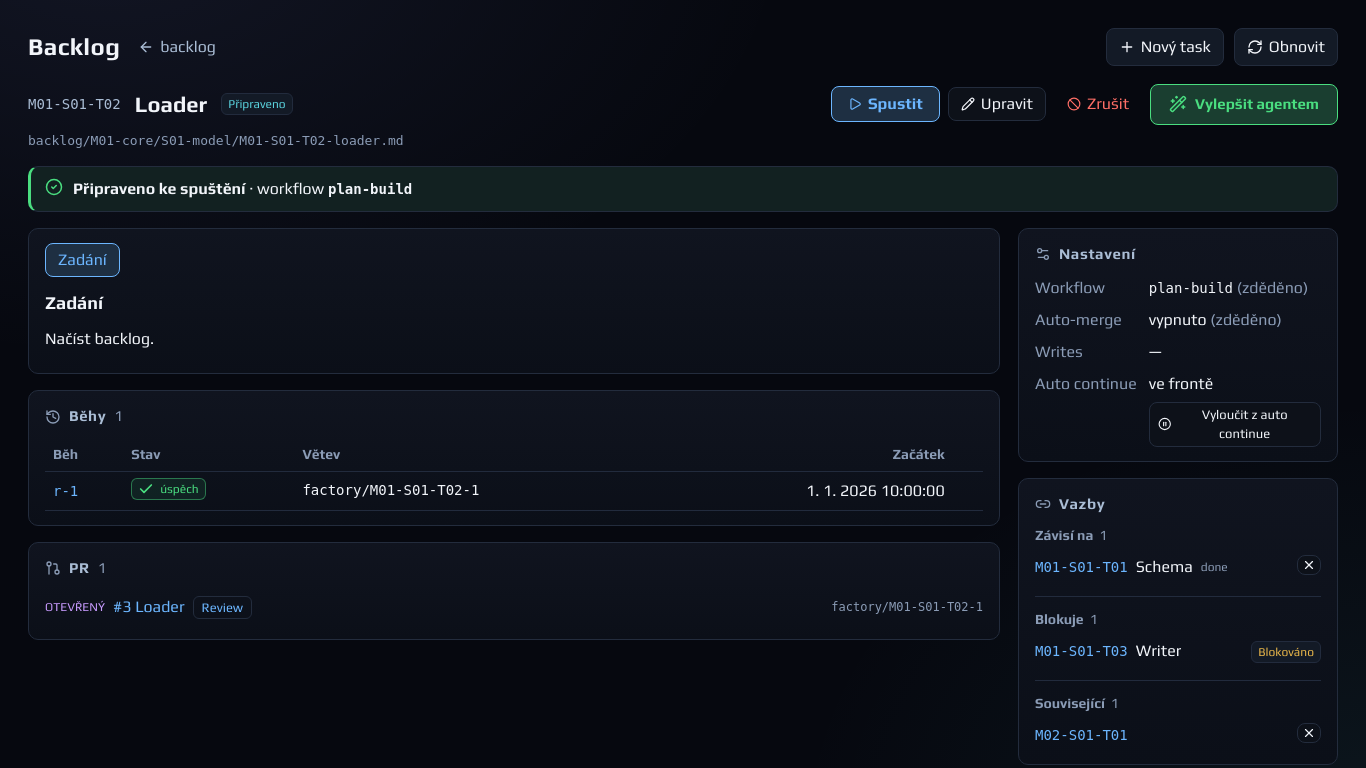
Test: BacklogView › saves generated advice from task detail, refreshes catalog, detail and the config banner
Click the button with test id "edit": (997, 104) [948, 87, 1046, 121]
(page scrolled)
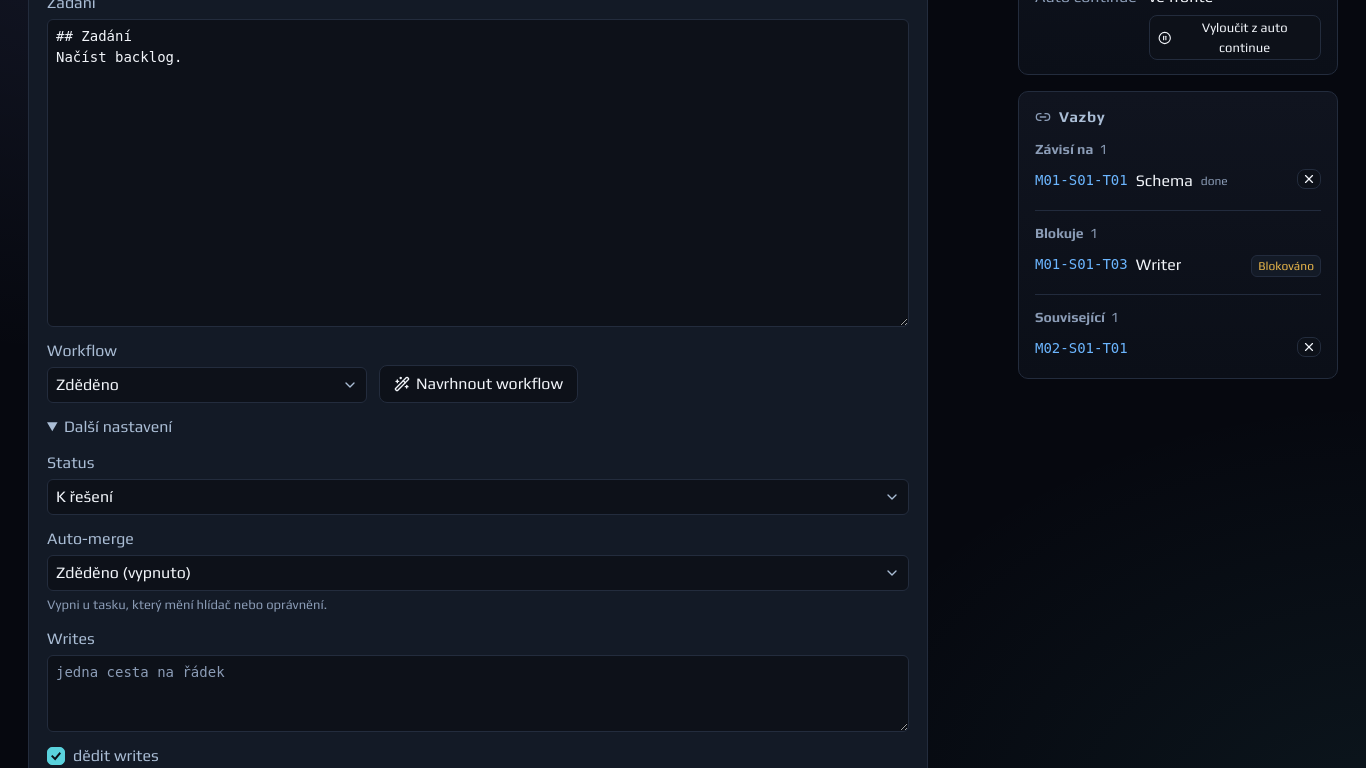
Click the button "Navrhnout workflow": (479, 384) [379, 365, 578, 403]
(page scrolled)
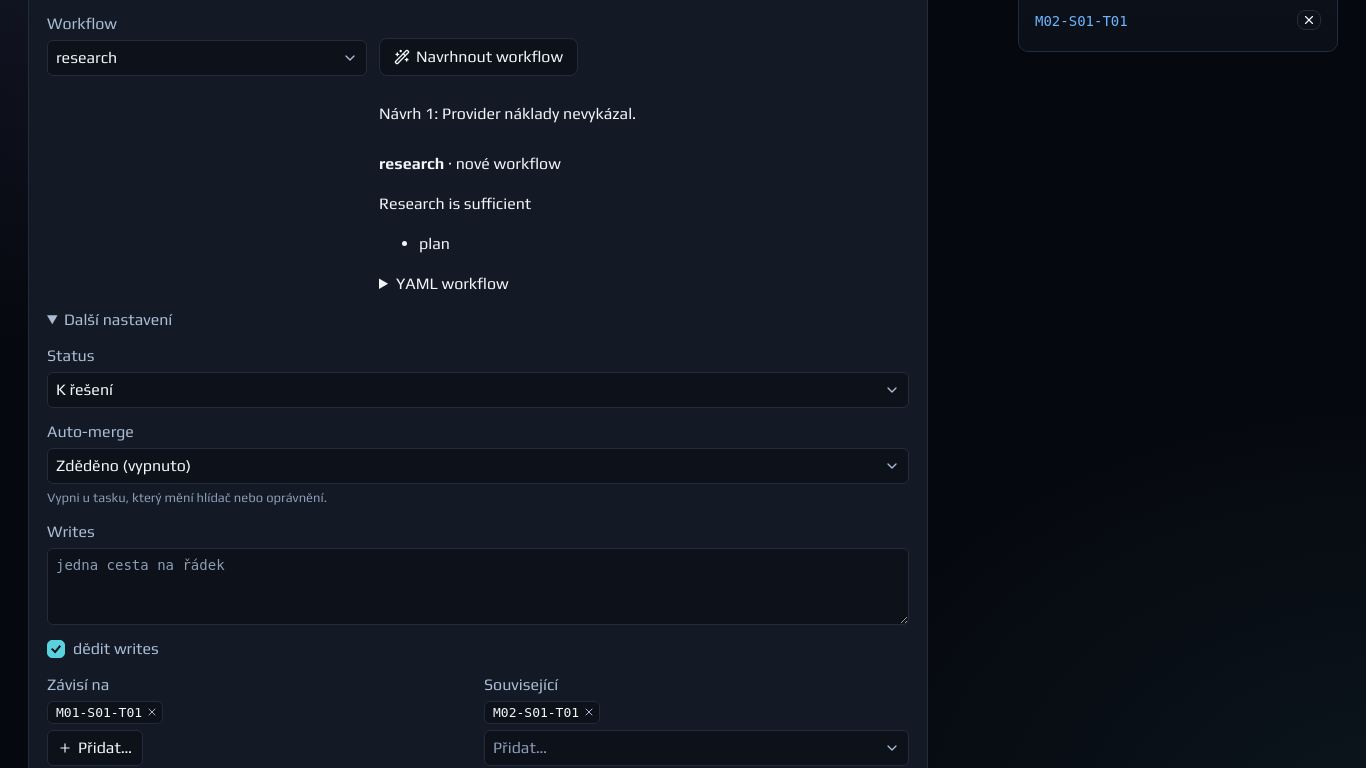
Submit the form
(page scrolled)
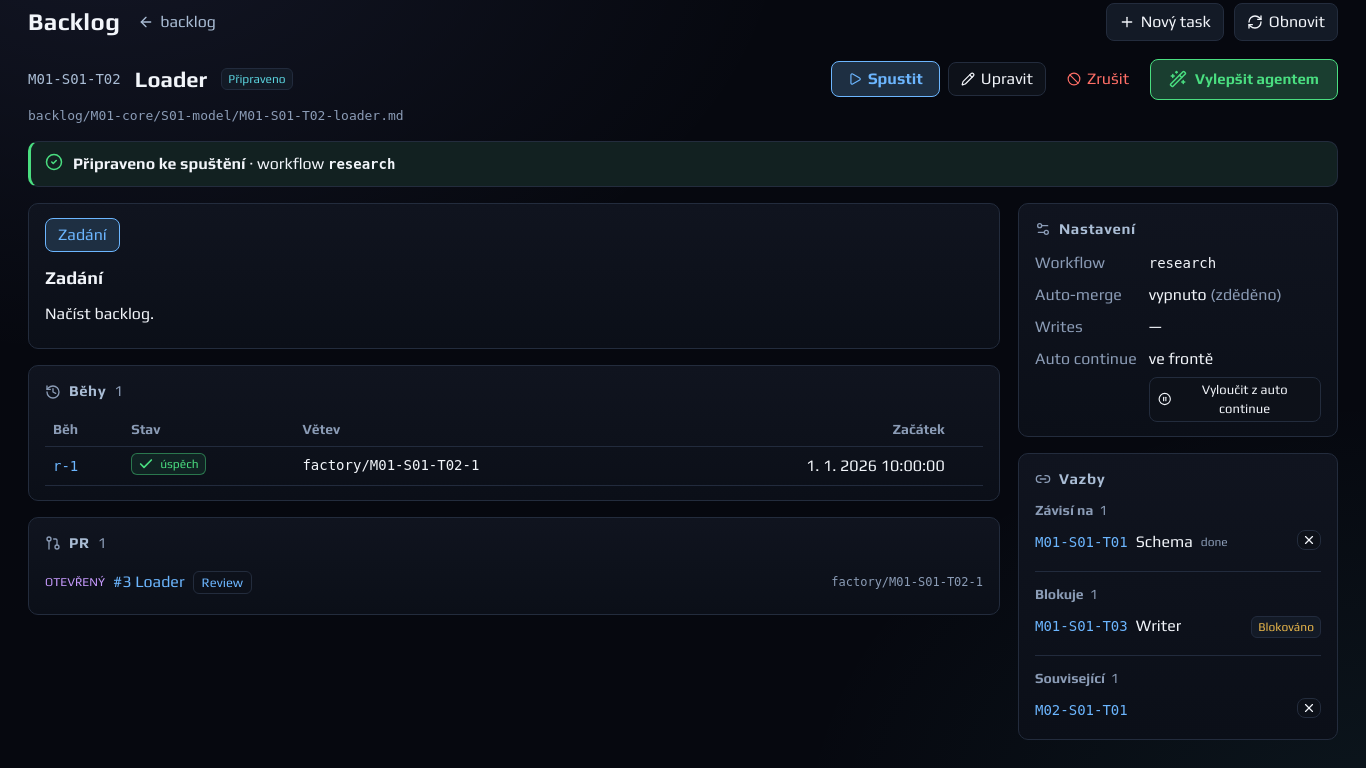
Expected: the element with test id "workflow" reads "research", [1149, 254, 1216, 270]
